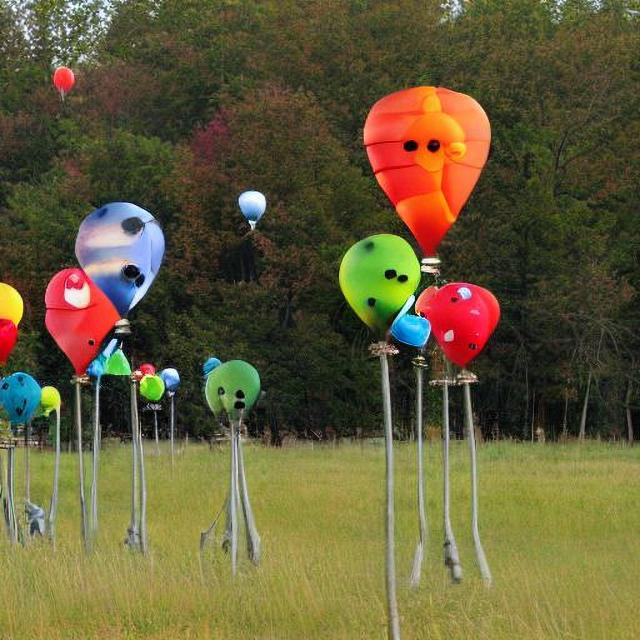balloon: (361, 84, 496, 253), (338, 239, 494, 361), (66, 203, 168, 340), (41, 260, 142, 379), (382, 274, 504, 368), (336, 232, 432, 341), (201, 357, 263, 421), (2, 371, 60, 432), (0, 279, 22, 368), (137, 361, 181, 403), (236, 187, 266, 223), (50, 64, 76, 95)
